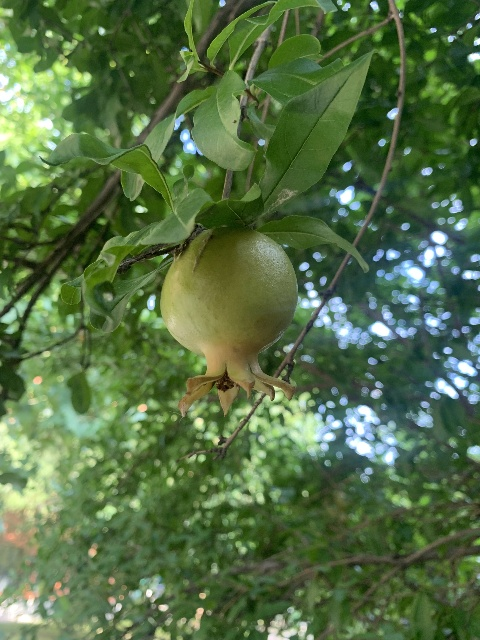mid-growth: (159, 228, 297, 419)
